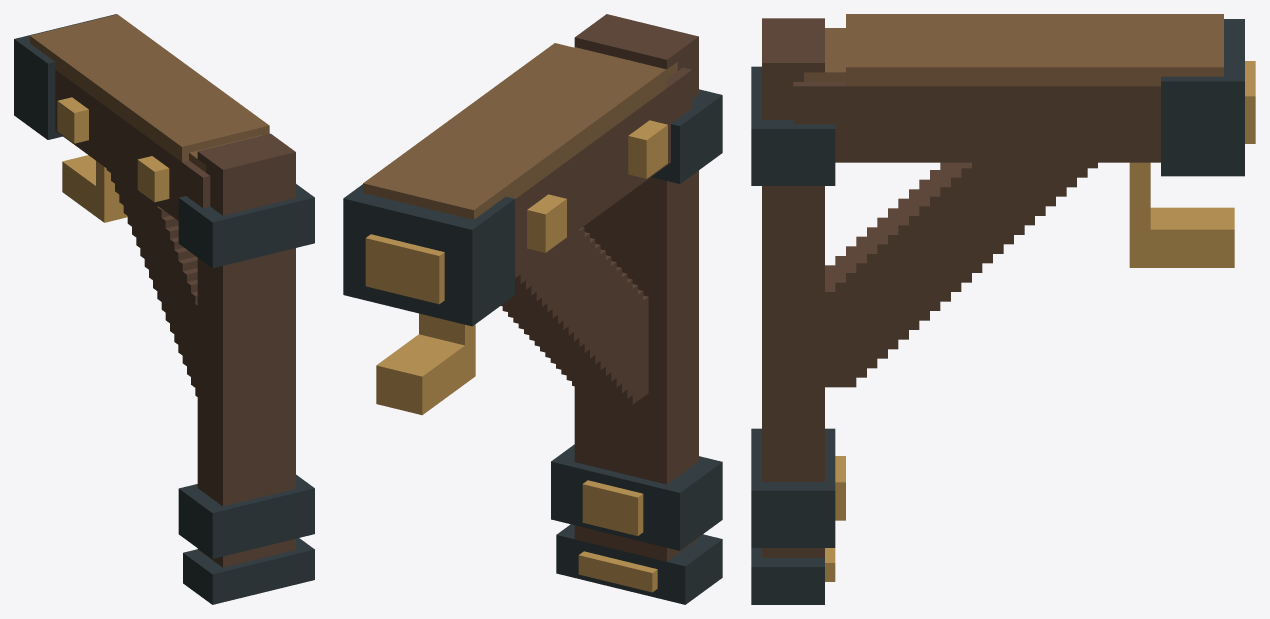
The model's file is BUILT-070.glb.
3 views of the same model, side by side, from view 1: azimuth 30°, elevation 25°; view 2: azimuth 150°, elevation 25°; view 3: azimuth 270°, elevation 25° (orthographic). The views are drawn at different scales.
Visible parts, largest first — view 1: 旧墙侧灯笼杆; view 2: 旧墙侧灯笼杆; view 3: 旧墙侧灯笼杆.
Boxes of the visible parts, box(x1,y1,x2,y2) form: 旧墙侧灯笼杆: box(14, 14, 314, 604); 旧墙侧灯笼杆: box(343, 14, 722, 604); 旧墙侧灯笼杆: box(751, 14, 1255, 604).
Size of the model in its own units: 0.3 by 1.12 by 0.96.
4 materials, 4 textured.
